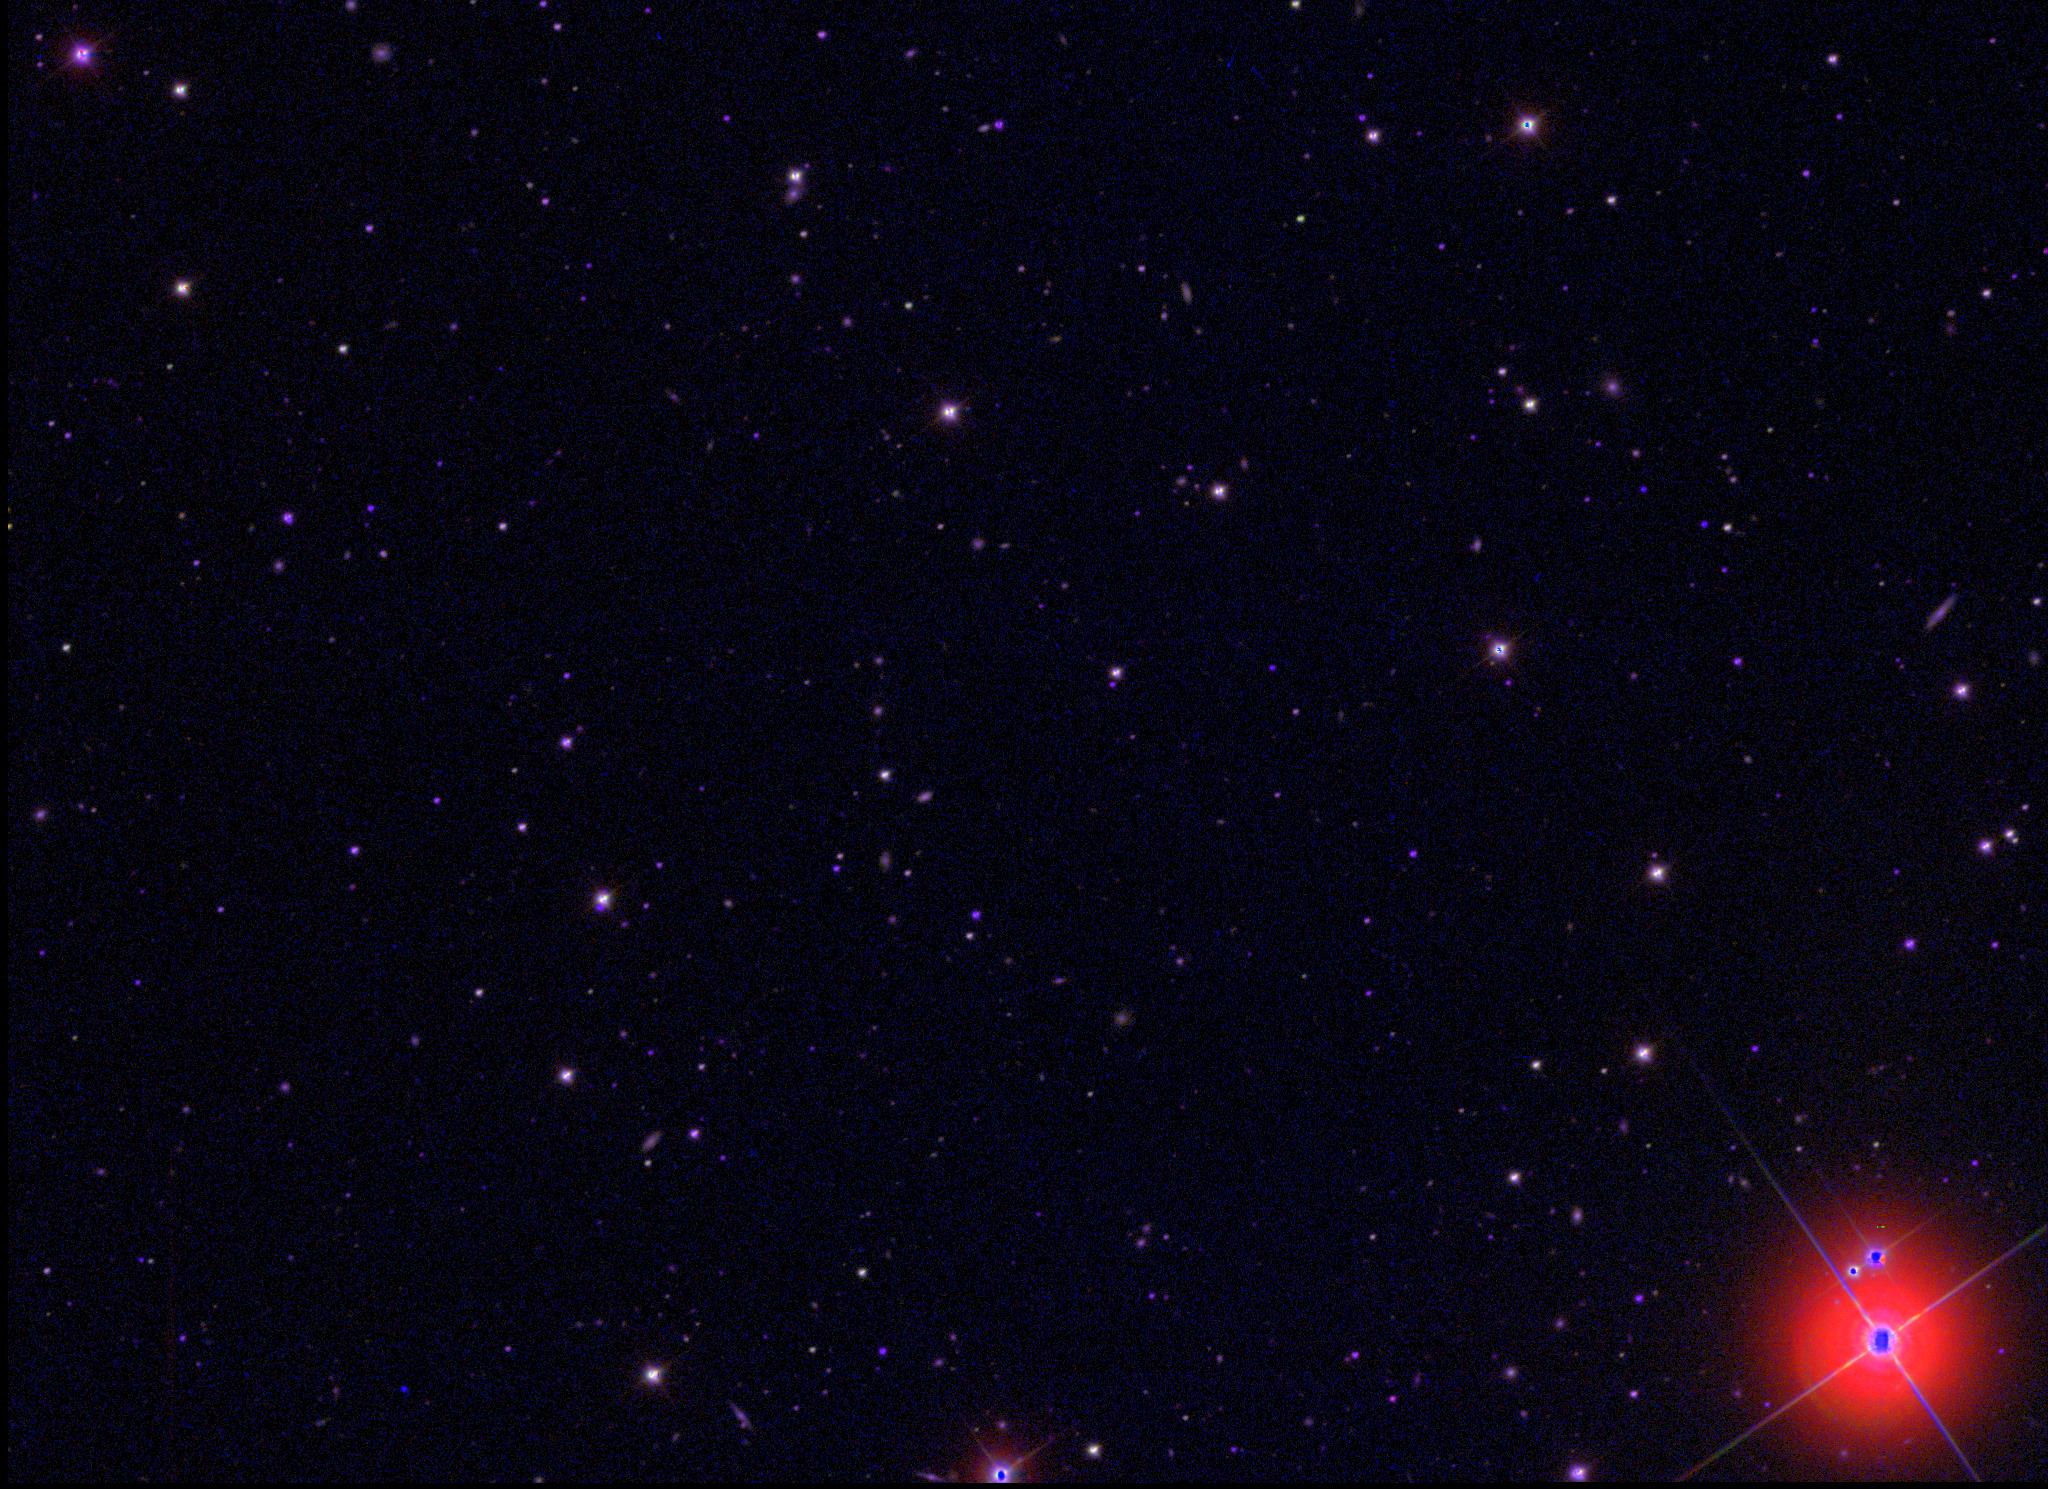L: (398, 1382, 410, 1397)
